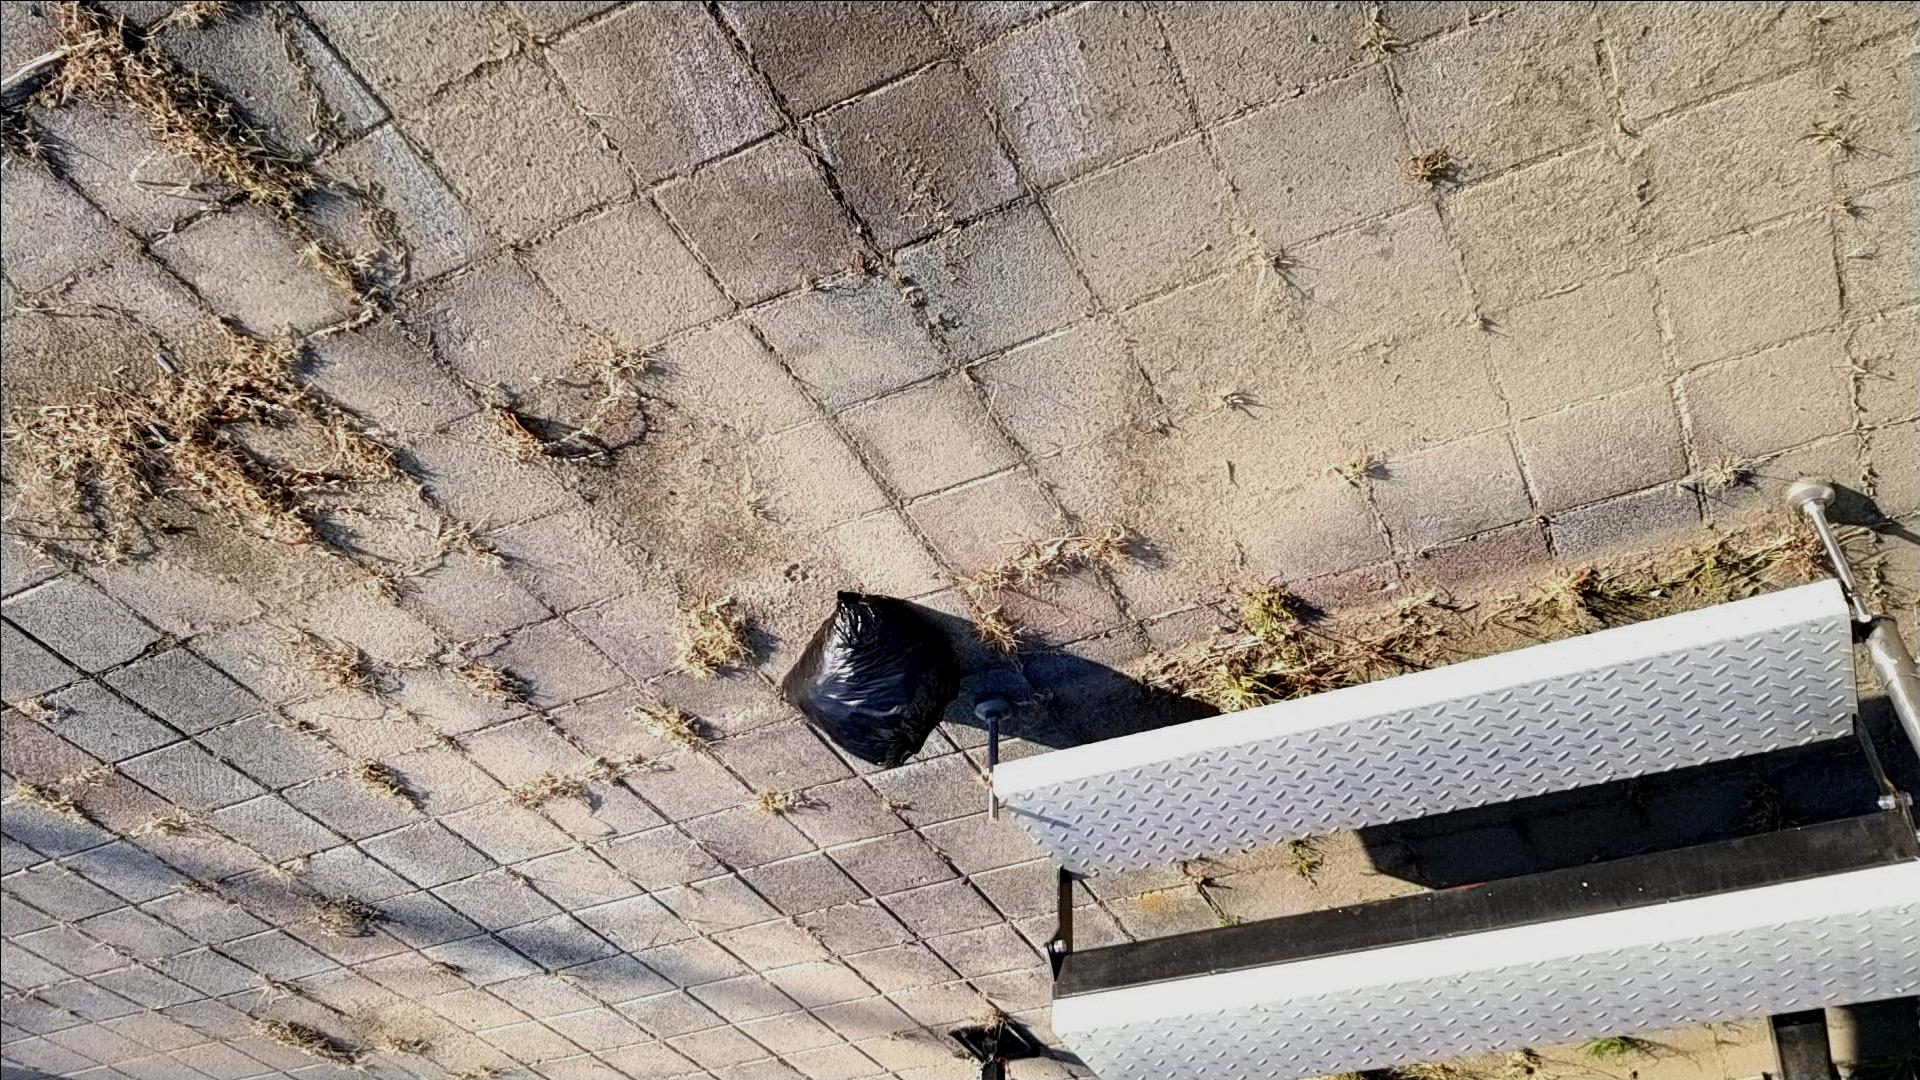black_bag: (771, 574, 968, 783)
